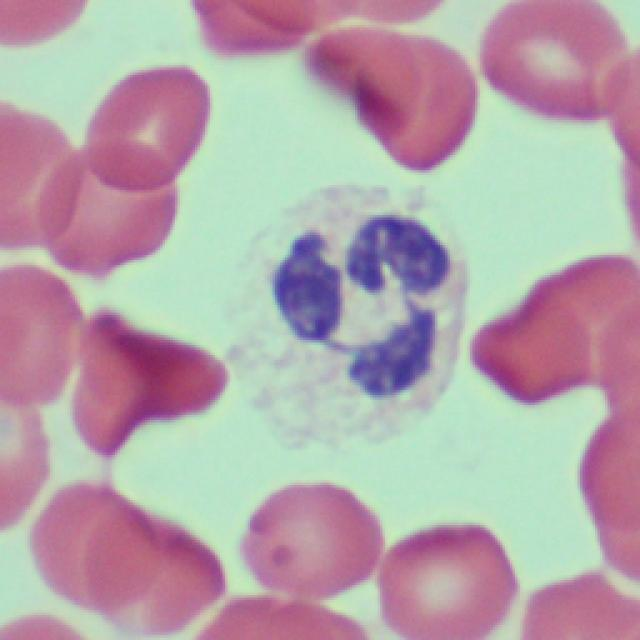RBC: (41, 59, 196, 266), (34, 480, 223, 635), (474, 254, 640, 413), (76, 291, 222, 460), (240, 467, 384, 627), (372, 494, 514, 640), (474, 2, 626, 130), (347, 24, 477, 170), (575, 410, 640, 582), (0, 265, 80, 403), (0, 376, 45, 538)
WBC: (222, 161, 480, 448)
